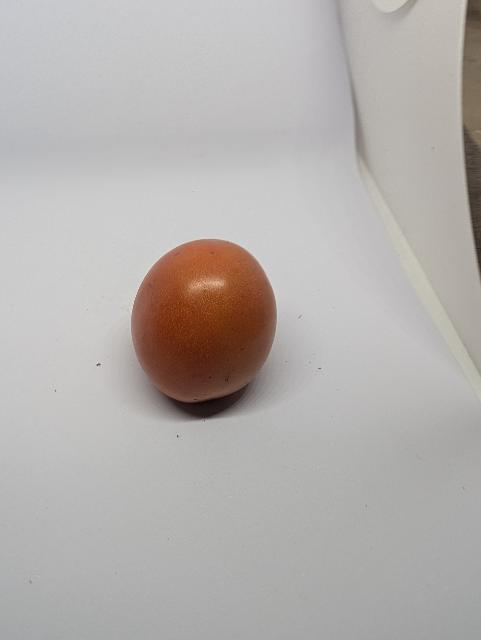red: (117, 235, 295, 417)
